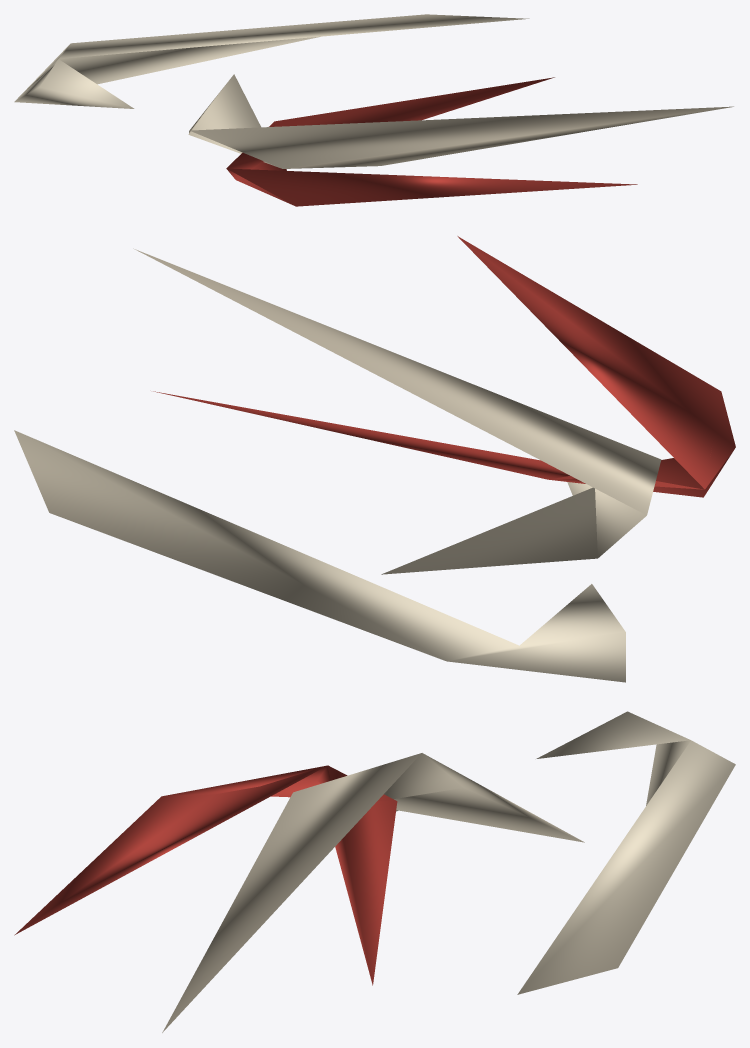
The model's file is den_gc_threads_lod2.glb.
3 views of the same model, one above another, from view 1: azimuth 30°, elevation 25°; view 2: azimuth 150°, elevation 25°; view 3: azimuth 270°, elevation 25° (orthographic). The views are drawn at different scales.
Visible parts, largest first — view 1: den_gc_threads.001; view 2: den_gc_threads.001; view 3: den_gc_threads.001.
Boxes of the visible parts, left/top/right/bottom form: den_gc_threads.001: left=14, top=14, right=733, bottom=206; den_gc_threads.001: left=14, top=236, right=735, bottom=682; den_gc_threads.001: left=14, top=711, right=735, bottom=1032.
Bounding box in the file's own units: 2.13 × 0.0833 × 2.03.
